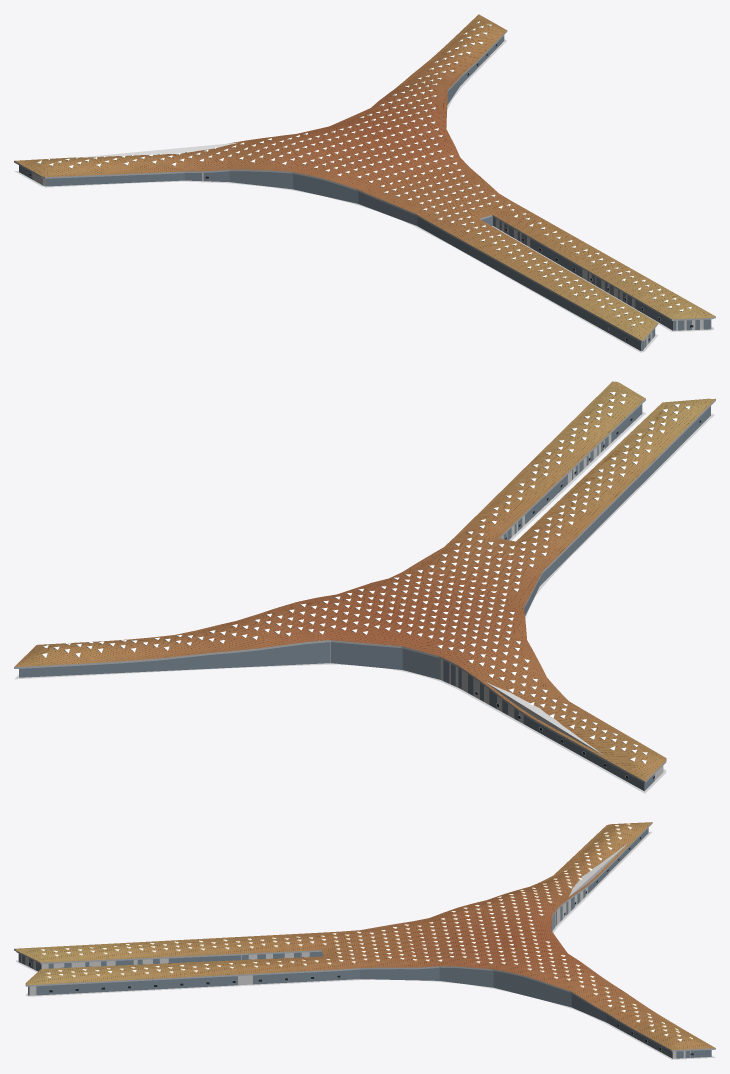
3 renders of one model, top to bottom at view 1: azimuth 30°, elevation 25°; view 2: azimuth 150°, elevation 25°; view 3: azimuth 270°, elevation 25°, orthographic. The views are drawn at different scales.
Parts seen in each view (by area): view 1: Terminal, Far, COL_hall4; view 2: Terminal, Far, COL_hall4; view 3: Terminal, Far, COL_hall4, COL_hall25, CLEAR_t3e_roof16.
Part boxes in pixels (box(x1,y1,x2,y2)): Terminal: box(17, 14, 713, 351); Far: box(14, 16, 715, 350); COL_hall4: box(75, 142, 237, 157); Terminal: box(14, 381, 714, 790); Far: box(19, 381, 715, 790); COL_hall4: box(461, 670, 604, 755); Terminal: box(16, 822, 715, 1058); Far: box(14, 822, 711, 1057); COL_hall4: box(557, 843, 627, 924); COL_hall25: box(41, 952, 309, 968); CLEAR_t3e_roof16: box(33, 979, 359, 996).
Size of the model in its own units: 793 by 38.18 by 1032.
7 materials, 2 textured.
